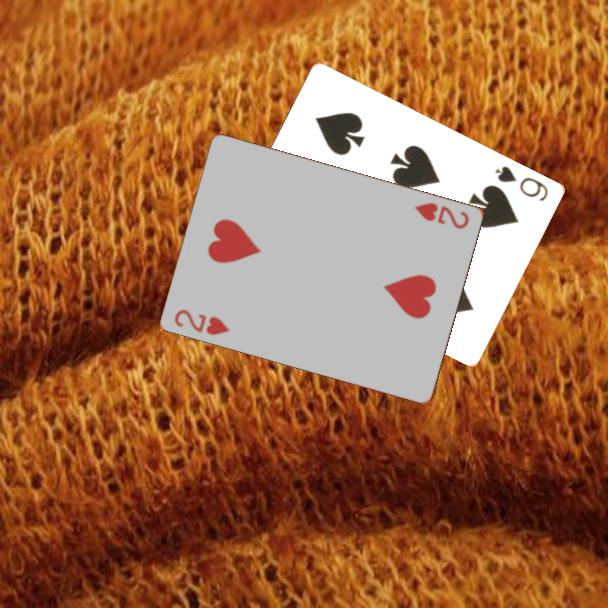h02: (171, 305, 233, 338), (411, 199, 472, 232)
s06: (492, 162, 552, 204)
